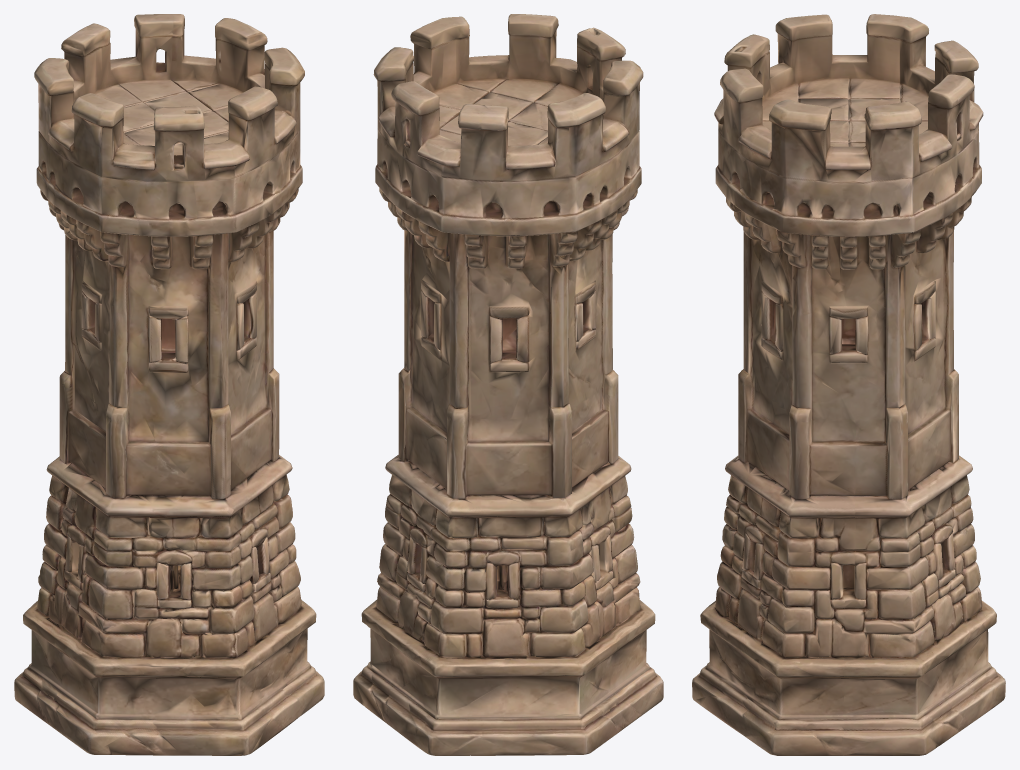
Rendered from tower-ordenador.glb.
The picture shows the model from 3 angles, left to right: view 1: azimuth 30°, elevation 25°; view 2: azimuth 150°, elevation 25°; view 3: azimuth 270°, elevation 25°; orthographic projection.
Visible parts, largest first — view 1: tripo_node_849bfb36-b7ca-425f-8ca3-46bc67007900; view 2: tripo_node_849bfb36-b7ca-425f-8ca3-46bc67007900; view 3: tripo_node_849bfb36-b7ca-425f-8ca3-46bc67007900.
Boxes of the visible parts, x1,y1,x2,y2 form: tripo_node_849bfb36-b7ca-425f-8ca3-46bc67007900: [14, 14, 324, 755]; tripo_node_849bfb36-b7ca-425f-8ca3-46bc67007900: [353, 14, 663, 755]; tripo_node_849bfb36-b7ca-425f-8ca3-46bc67007900: [692, 14, 1005, 755].
Size of the model in its own units: 0.3807 by 0.9797 by 0.4378.
Materials: 1 (1 with a texture image).
